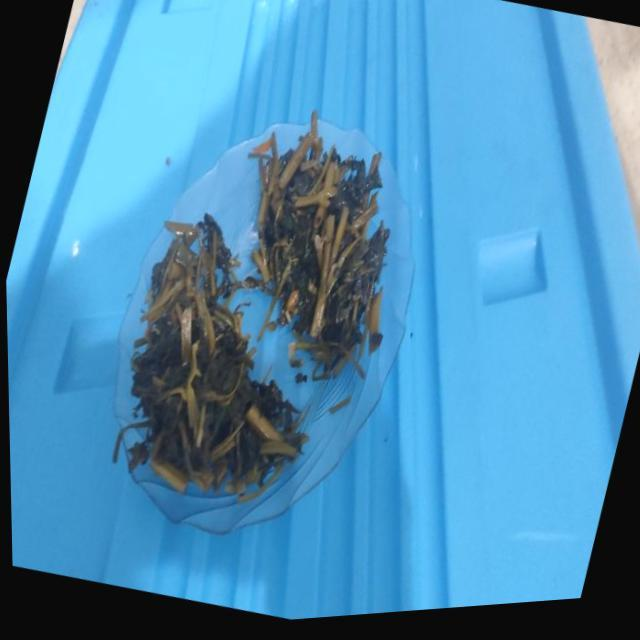tumis_kangkung: (113, 213, 308, 500), (252, 110, 389, 380)
